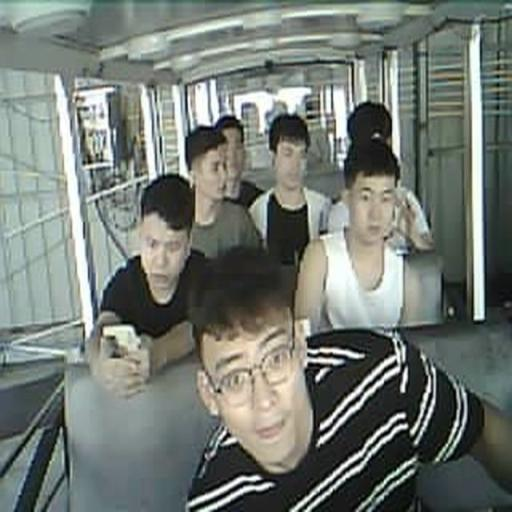persona: (184, 245, 496, 511), (88, 173, 212, 398), (292, 136, 410, 337), (328, 100, 435, 256), (248, 113, 333, 270), (183, 124, 263, 262), (213, 114, 265, 211)
